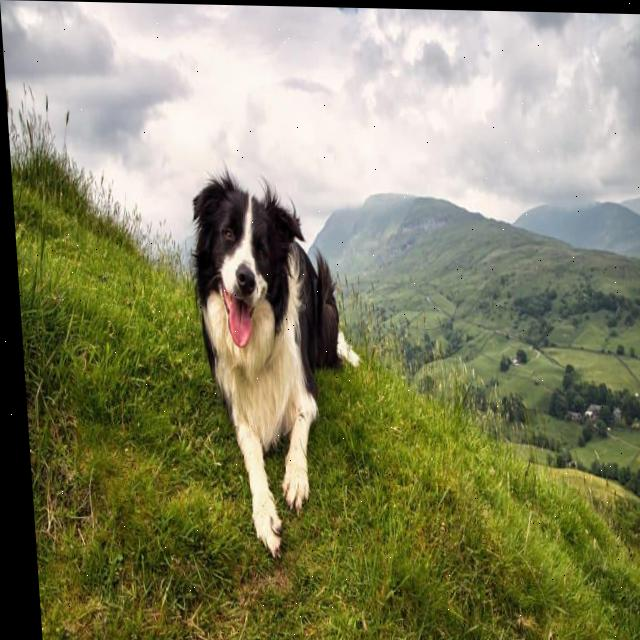ALASKAN_MALAMUTE: (169, 156, 374, 565)
